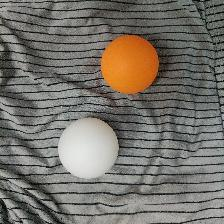WhiteBall: (57, 117, 118, 179)
YellowBall: (100, 34, 159, 94)
